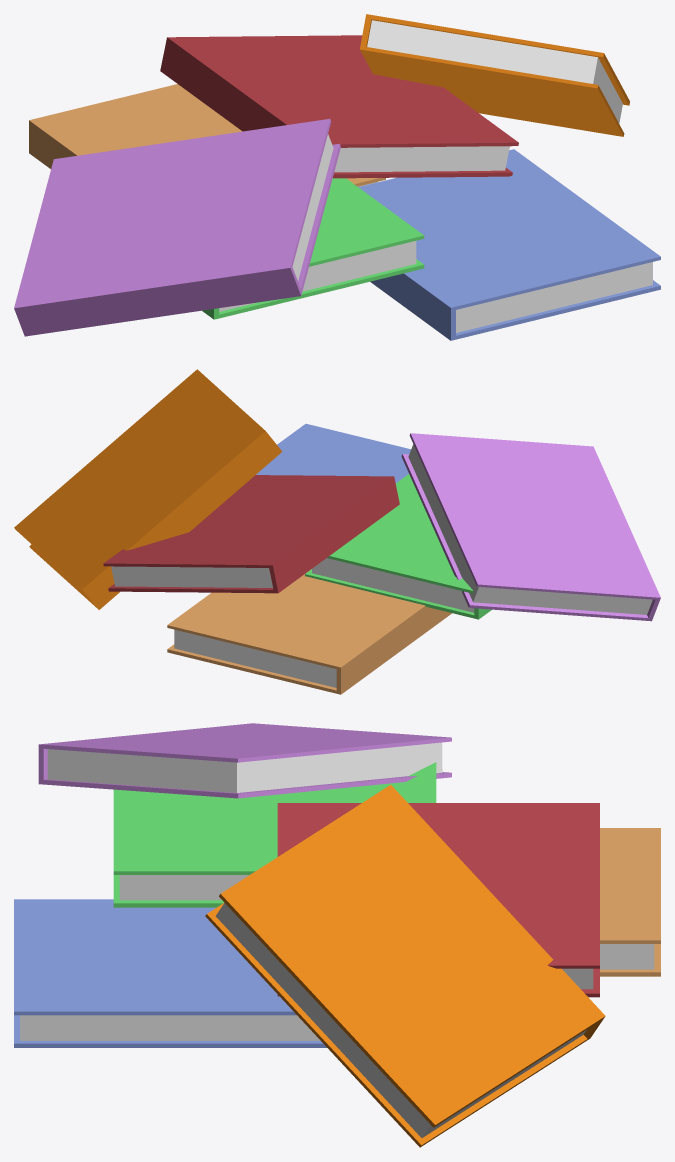
File: book.fbx
3 views of the same model, one above another, from view 1: azimuth 30°, elevation 25°; view 2: azimuth 150°, elevation 25°; view 3: azimuth 270°, elevation 25° (orthographic). The views are drawn at different scales.
Visible parts, largest first — view 1: Book.004, Book.002, Book, Book.005, Book.003, Book.001; view 2: Book.004, Book.005, Book, Book.003, Book.001, Book.002; view 3: Book.005, Book.002, Book.004, Book, Book.001, Book.003.
Boxes of the visible parts, x1,y1,x2,y2 form: Book.004: (14,119,340,336); Book.002: (358,149,660,340); Book: (160,35,518,178); Book.005: (360,14,629,136); Book.003: (29,84,385,186); Book.001: (202,178,424,319); Book.004: (401,433,660,621); Book.005: (14,369,282,609); Book: (103,475,399,593); Book.003: (167,569,451,694); Book.001: (305,474,491,619); Book.002: (256,423,410,483); Book.005: (205,784,605,1147); Book.002: (14,899,326,1047); Book.004: (38,723,451,798); Book: (277,803,599,997); Book.001: (113,762,436,907); Book.003: (600,828,660,976).
Bounding box in the file's own units: 666 × 181 × 486.
